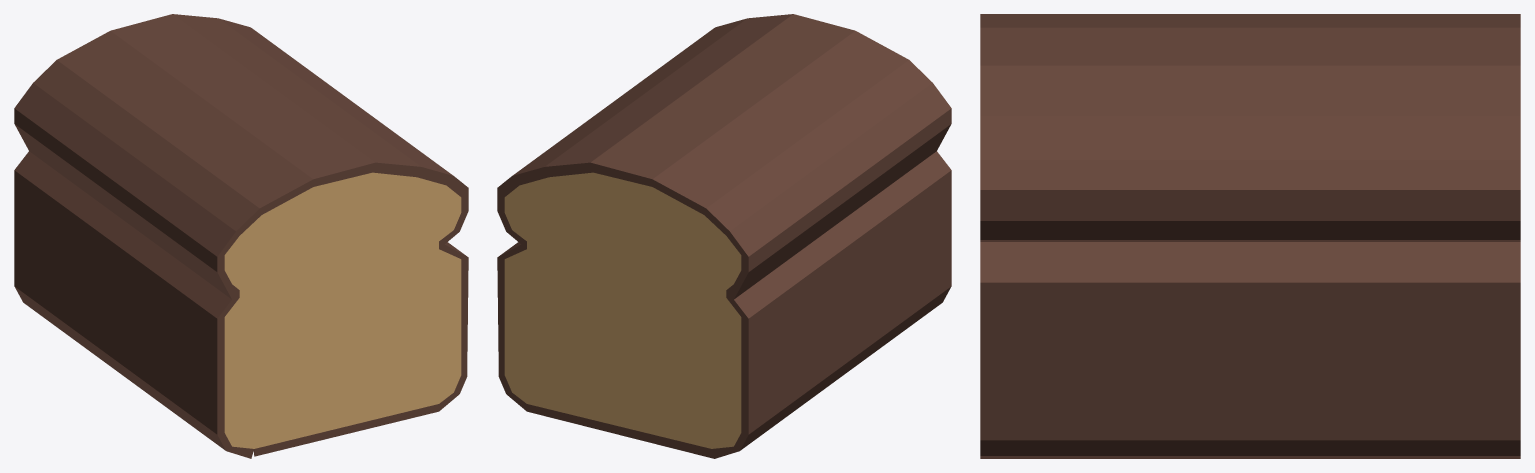
The model's file is bread_loaf.glb.
3 renders of one model, left to right at view 1: azimuth 30°, elevation 25°; view 2: azimuth 150°, elevation 25°; view 3: azimuth 270°, elevation 25°, orthographic. The views are drawn at different scales.
Parts seen in each view (by area): view 1: node_MeshObject1069152832-PolyPaper18; view 2: node_MeshObject1069152832-PolyPaper18; view 3: node_MeshObject1069152832-PolyPaper18.
Boxes of the visible parts, box(x1,y1,x2,y2) form: node_MeshObject1069152832-PolyPaper18: box(14, 14, 468, 458); node_MeshObject1069152832-PolyPaper18: box(497, 14, 951, 458); node_MeshObject1069152832-PolyPaper18: box(980, 14, 1520, 458).
Size of the model in its own units: 1.78 by 1.8 by 2.49.
